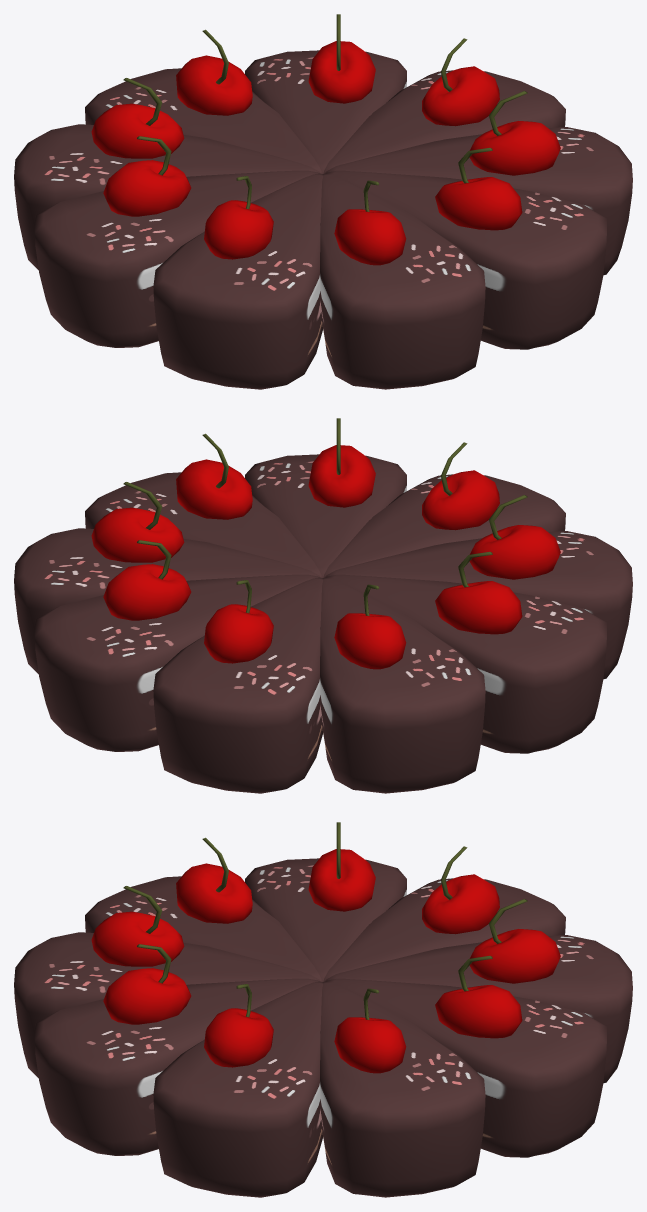
Rendered from cake 9.fbx.
3 renders of one model, top to bottom at view 1: azimuth 30°, elevation 25°; view 2: azimuth 150°, elevation 25°; view 3: azimuth 270°, elevation 25°, orthographic.
Visible parts, largest first — view 1: p2, p3, p1, p4, p5, p9, p7, p6, p8; view 2: p8, p9, p7, p1, p2, p6, p4, p3, p5; view 3: p5, p6, p4, p7, p8, p3, p1, p9, p2.
Part boxes in pixels (left/top/right/bottom): p2: left=153, top=173, right=322, bottom=389; p3: left=320, top=173, right=485, bottom=389; p1: left=34, top=136, right=319, bottom=347; p4: left=325, top=147, right=606, bottom=349; p5: left=325, top=91, right=632, bottom=275; p9: left=14, top=78, right=319, bottom=269; p7: left=245, top=14, right=406, bottom=173; p6: left=323, top=38, right=565, bottom=173; p8: left=85, top=29, right=321, bottom=173; p8: left=153, top=577, right=322, bottom=793; p9: left=320, top=577, right=485, bottom=793; p7: left=34, top=540, right=319, bottom=751; p1: left=325, top=551, right=606, bottom=753; p2: left=325, top=495, right=632, bottom=679; p6: left=14, top=482, right=319, bottom=673; p4: left=245, top=418, right=406, bottom=577; p3: left=323, top=442, right=565, bottom=577; p5: left=85, top=433, right=321, bottom=577; p5: left=153, top=981, right=322, bottom=1197; p6: left=320, top=981, right=485, bottom=1197; p4: left=34, top=944, right=319, bottom=1155; p7: left=325, top=955, right=606, bottom=1157; p8: left=325, top=899, right=632, bottom=1083; p3: left=14, top=886, right=319, bottom=1077; p1: left=245, top=822, right=406, bottom=981; p9: left=323, top=846, right=565, bottom=981; p2: left=85, top=837, right=321, bottom=981.
Bounding box in the file's own units: 159 × 49.9 × 160.
